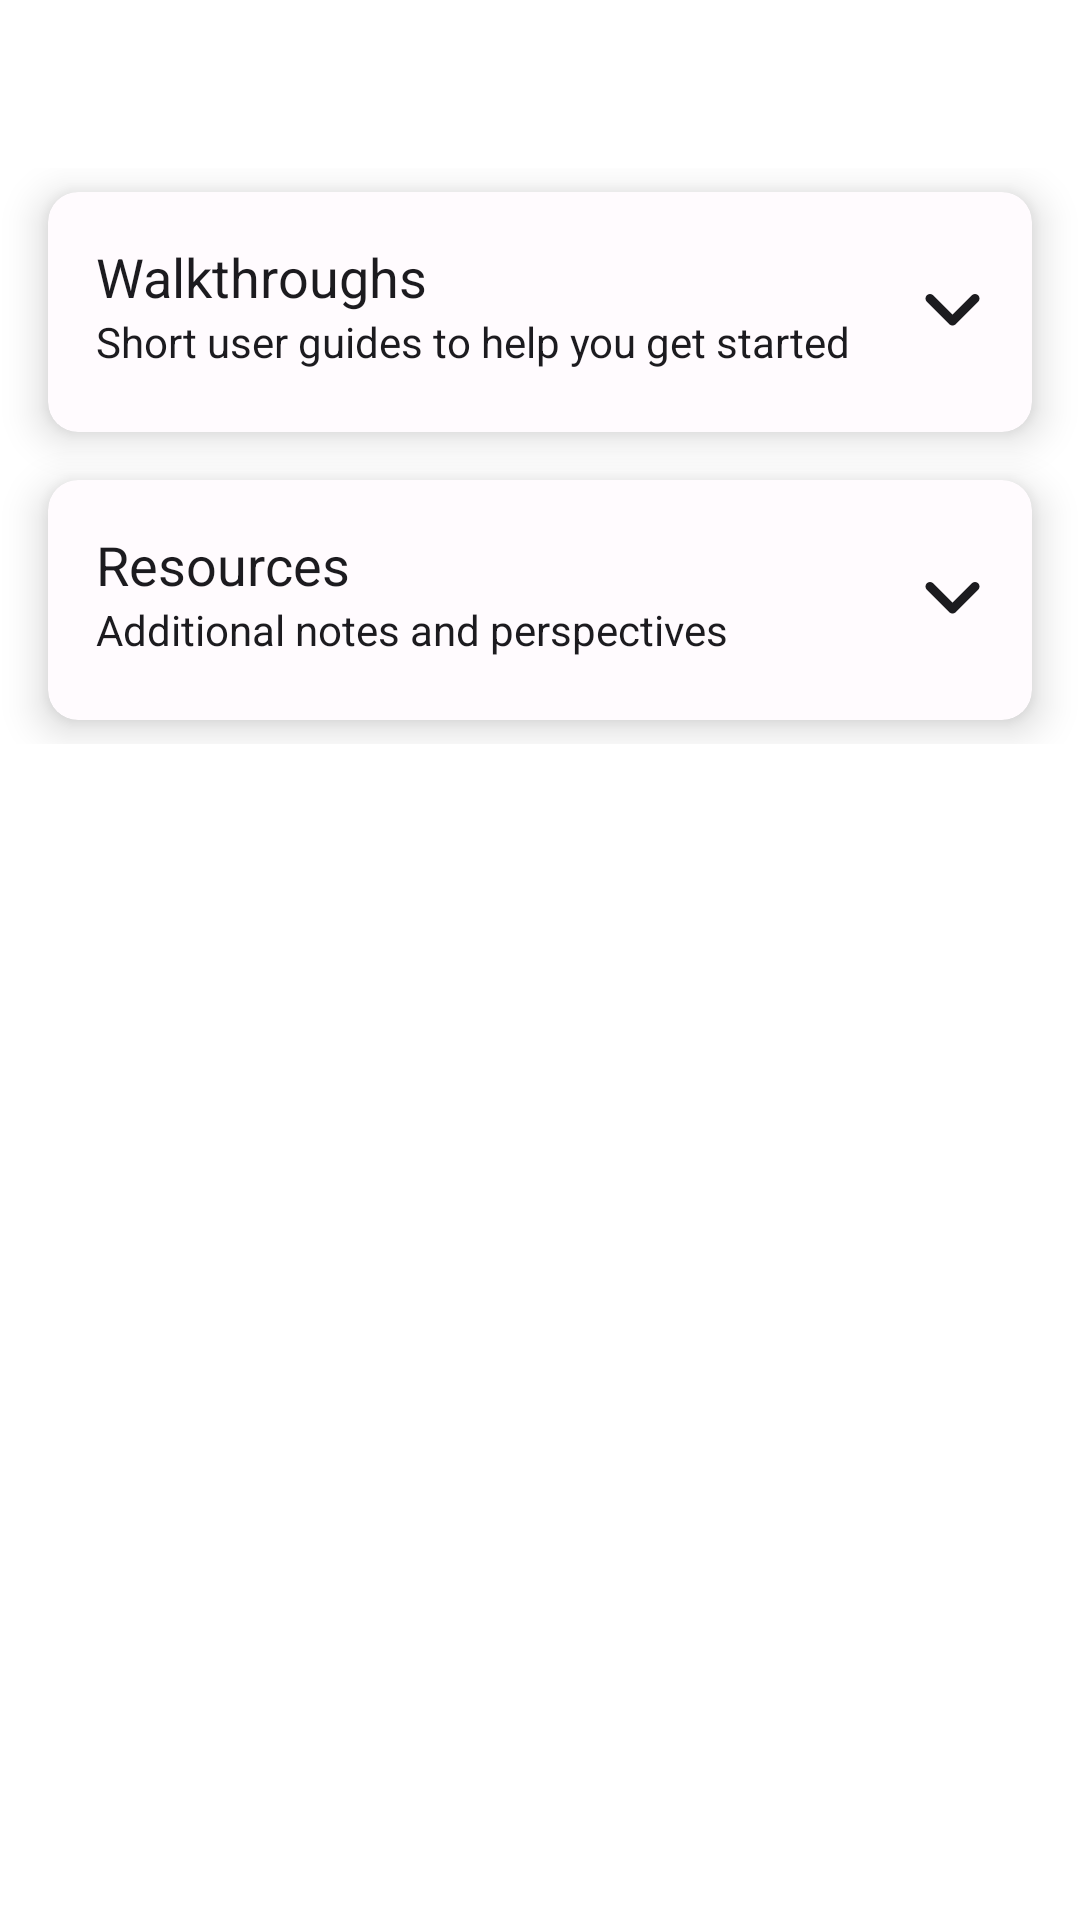

Point at icon controls on the screen. Image size 1080px x 1920px, points as point (x, y).
Expand dropdown: point (952, 310), point (952, 598)
